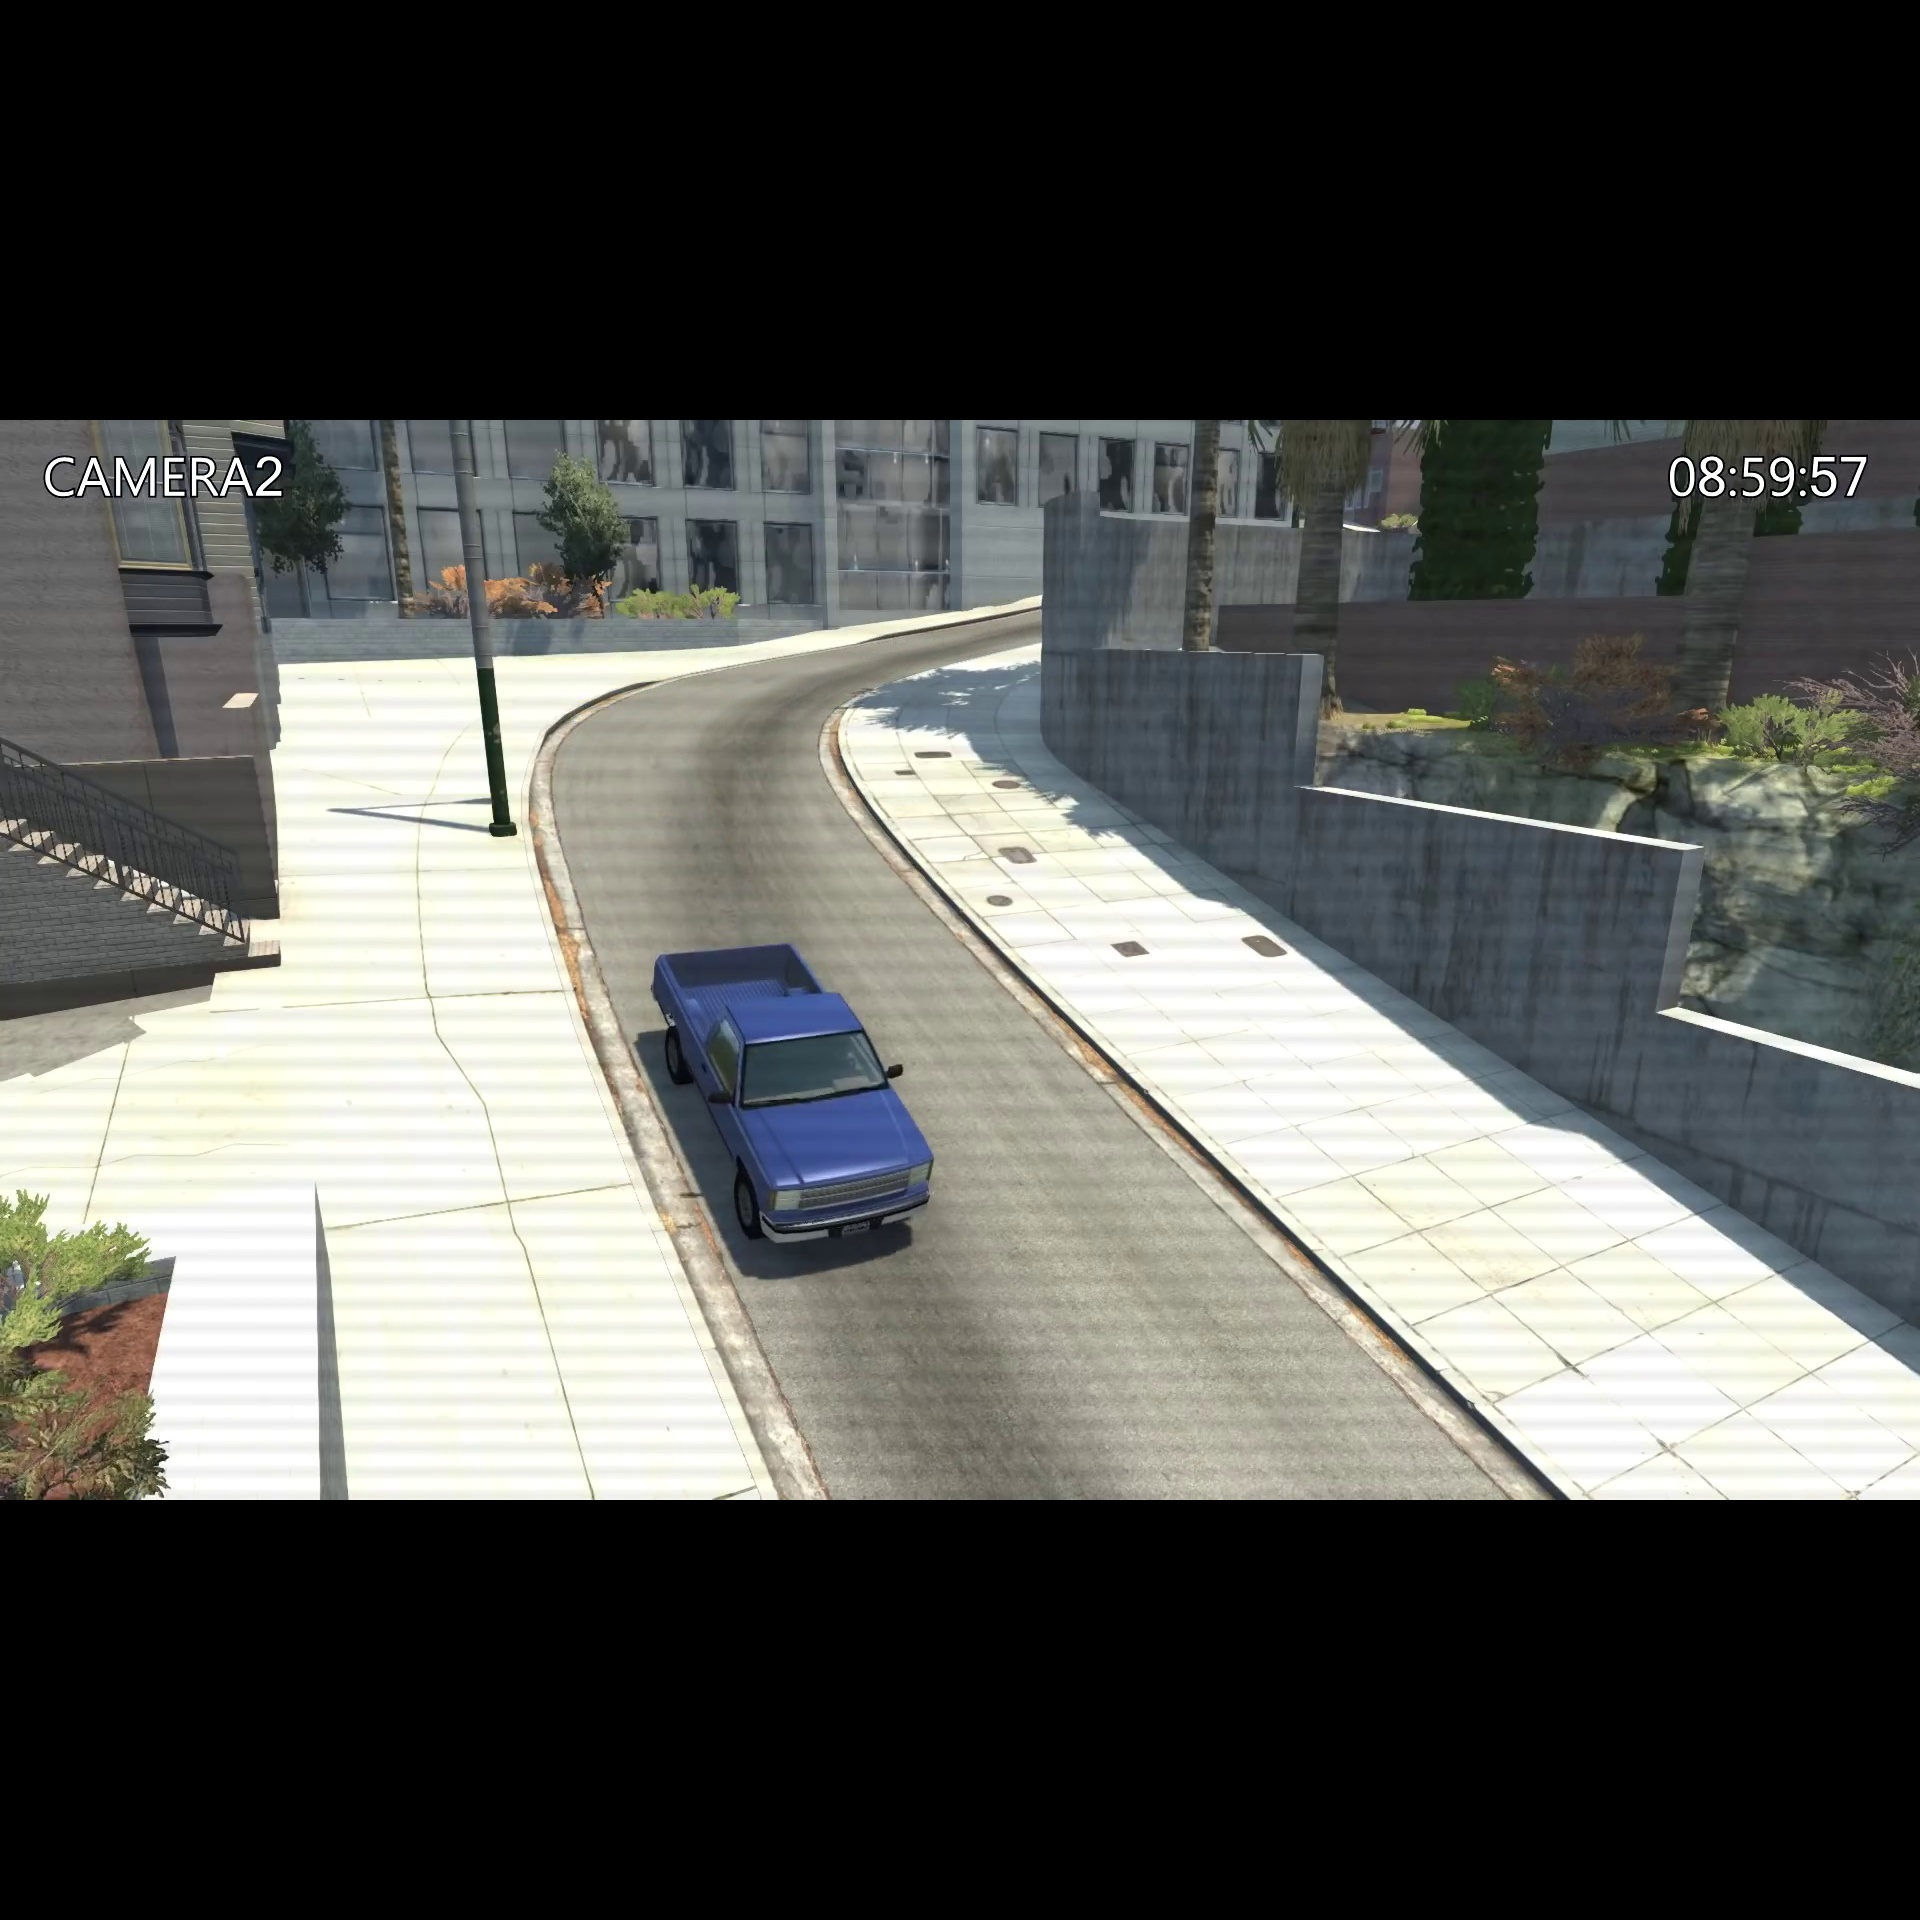vehicle: (642, 934, 942, 1261)
